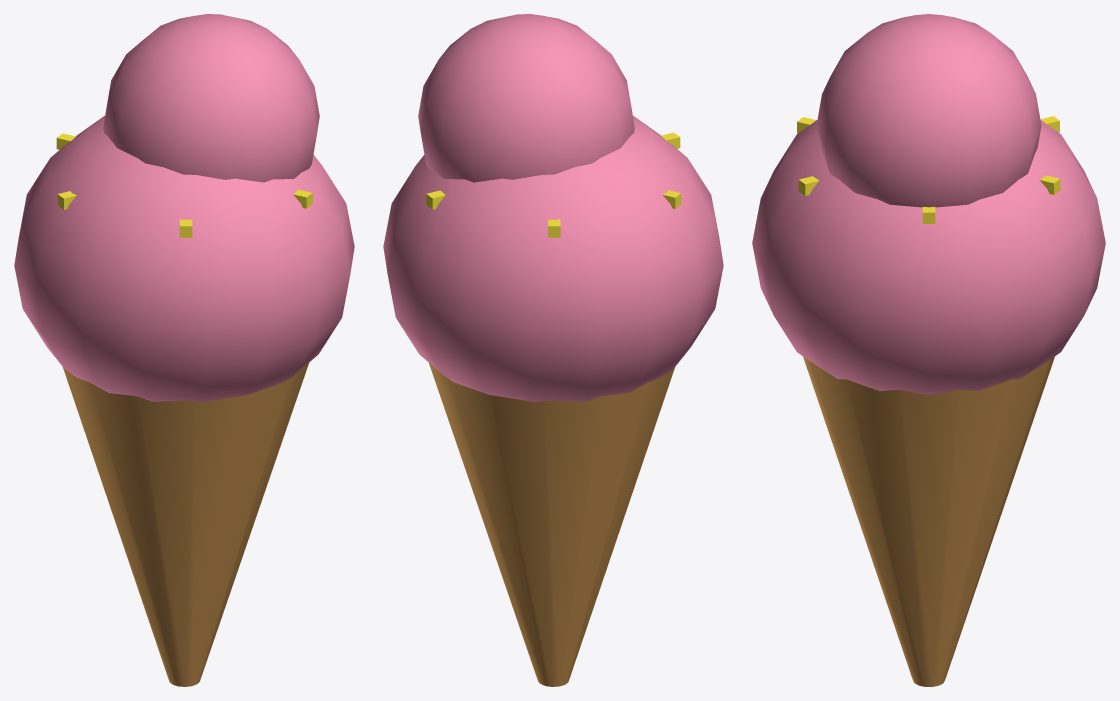
Rendered from parking_icecream.glb.
The picture shows the model from 3 angles, left to right: view 1: azimuth 30°, elevation 25°; view 2: azimuth 150°, elevation 25°; view 3: azimuth 270°, elevation 25°; orthographic projection. The views are drawn at different scales.
Visible parts, largest first — view 1: IceCream; view 2: IceCream; view 3: IceCream.
Part boxes in pixels (bbox=[...]): IceCream: bbox=[14, 14, 354, 686]; IceCream: bbox=[383, 14, 723, 686]; IceCream: bbox=[752, 14, 1105, 686].
Bounding box in the file's own units: 0.11 × 0.23 × 0.11.
